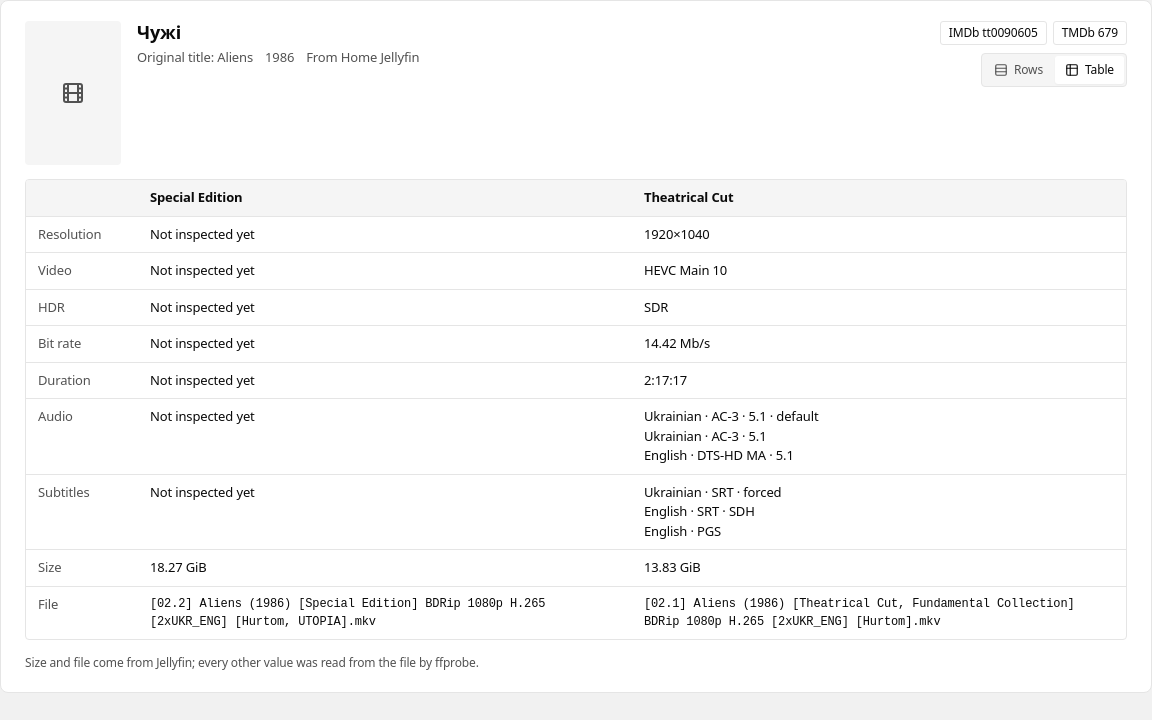
Test case: LibraryWorkCard versions › as a table › shows the facts an earlier reading left for a file with no path in this app now, which its row only flags
The width and height of the screenshot is (1152, 720).
Click the radio button labelled "Rows": [1018, 70] box [994, 61, 1043, 78]
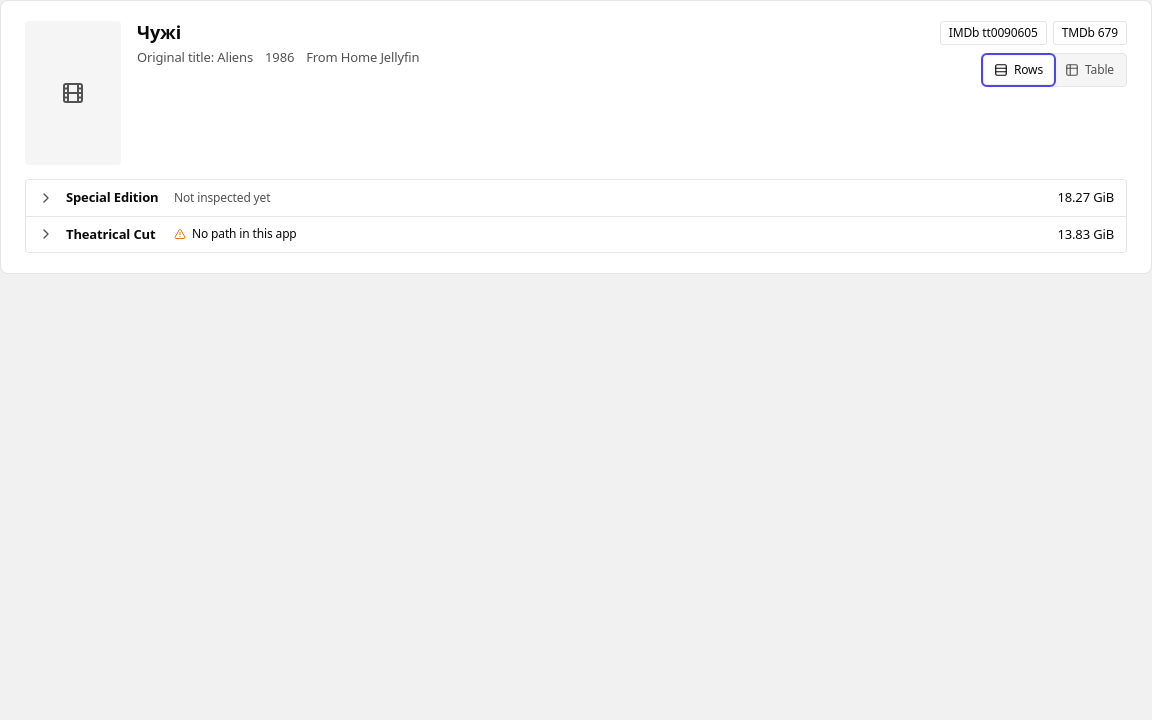
Expected: the button "Theatrical Cut No path in this app 13.83 GiB" is shown, [26, 216, 1126, 252]
